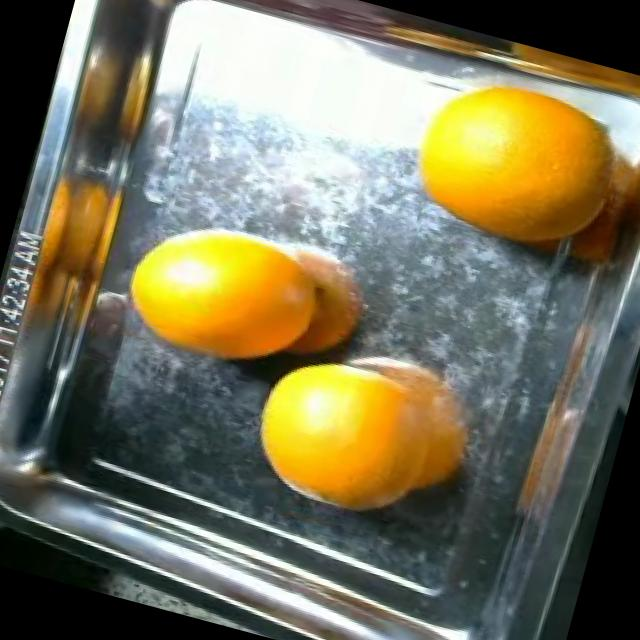Fruit: (94, 188, 336, 400), (222, 330, 443, 538)
